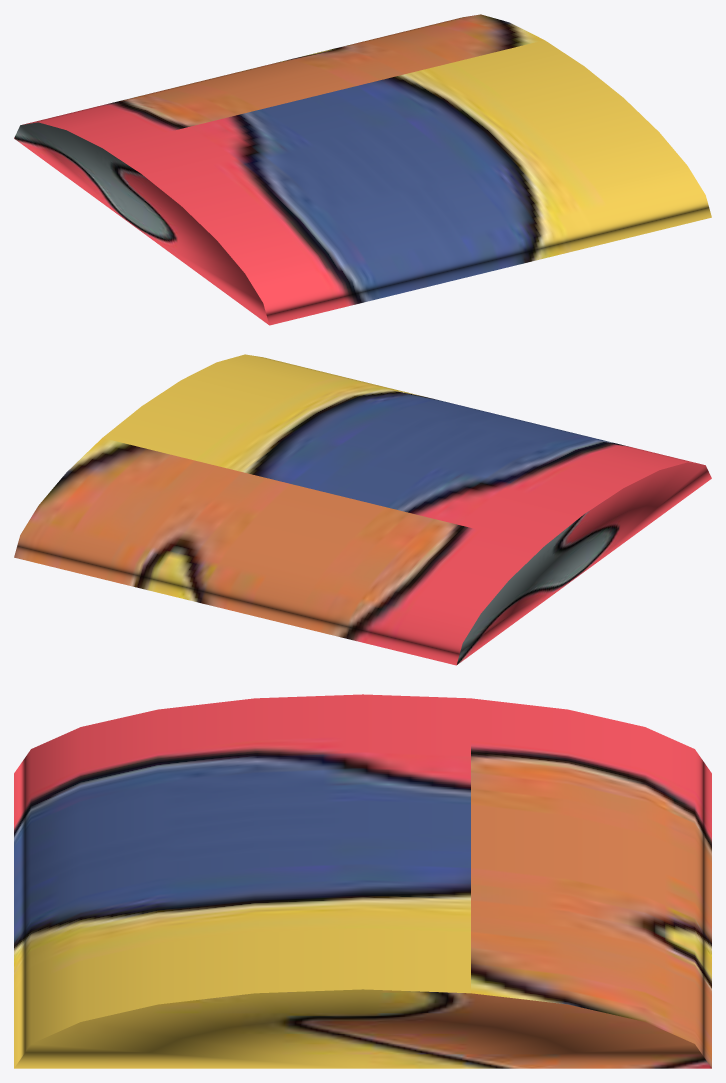
The model's file is building8.fbx.
The picture shows the model from 3 angles, top to bottom: view 1: azimuth 30°, elevation 25°; view 2: azimuth 150°, elevation 25°; view 3: azimuth 270°, elevation 25°; orthographic projection. The views are drawn at different scales.
Parts seen in each view (by area): view 1: pCylinder20; view 2: pCylinder20; view 3: pCylinder20.
Boxes of the visible parts, left/top/right/bottom form: pCylinder20: left=14, top=14, right=711, bottom=325; pCylinder20: left=14, top=354, right=711, bottom=665; pCylinder20: left=14, top=694, right=711, bottom=1068.
Bounding box in the file's own units: 4 × 0.5 × 4.
1 material, 1 textured.
